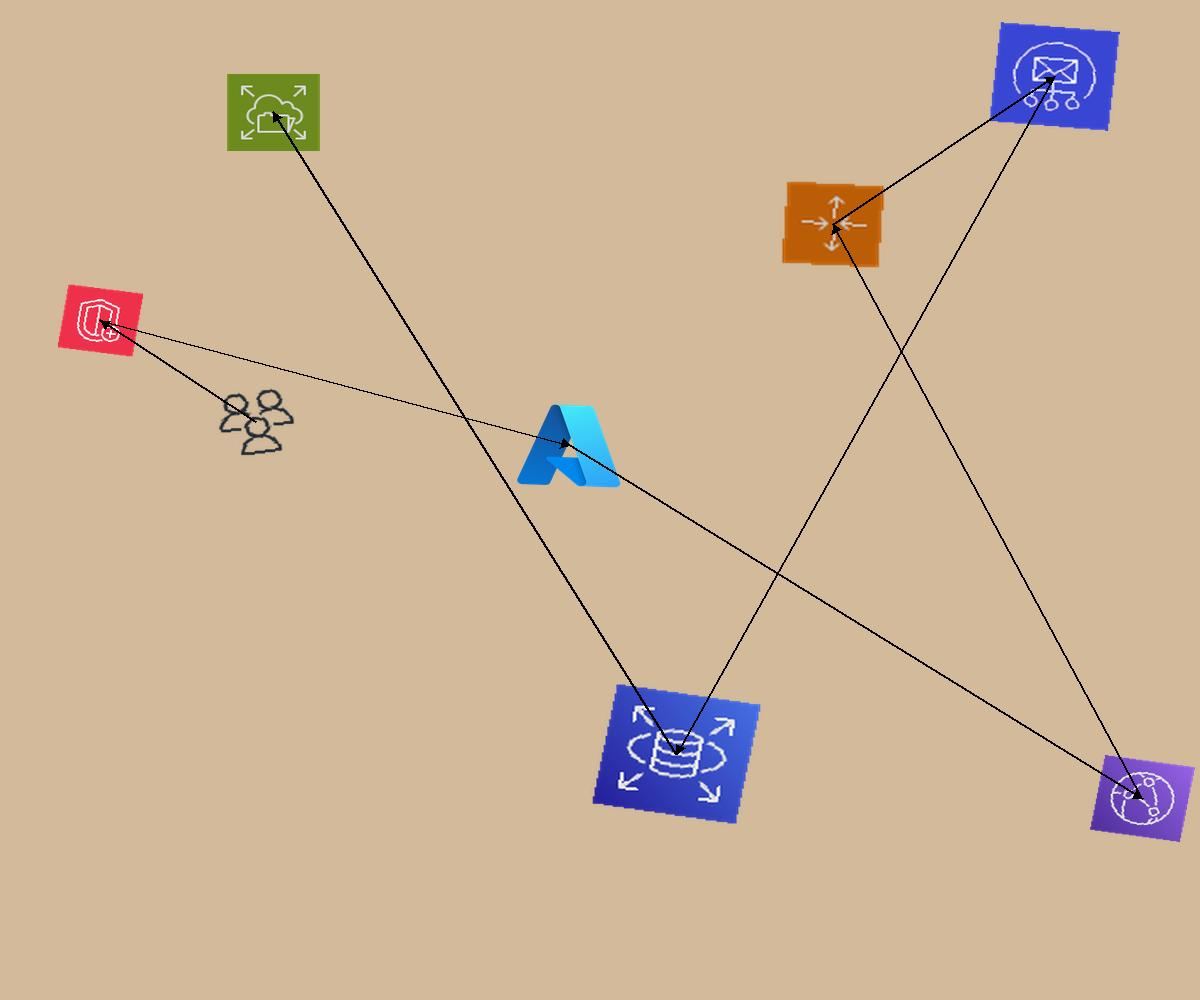AWS-CloudFront: (1089, 754, 1196, 843)
AWS-EFS: (226, 73, 321, 152)
AWS-RDS: (591, 683, 762, 825)
AWS-Res_Users: (209, 383, 304, 462)
AWS-Scaling-group: (780, 180, 886, 269)
AWS-Shield: (57, 284, 144, 357)
AWS-Simple-Email-Service: (989, 22, 1120, 131)
Azure_services: (512, 397, 629, 494)
